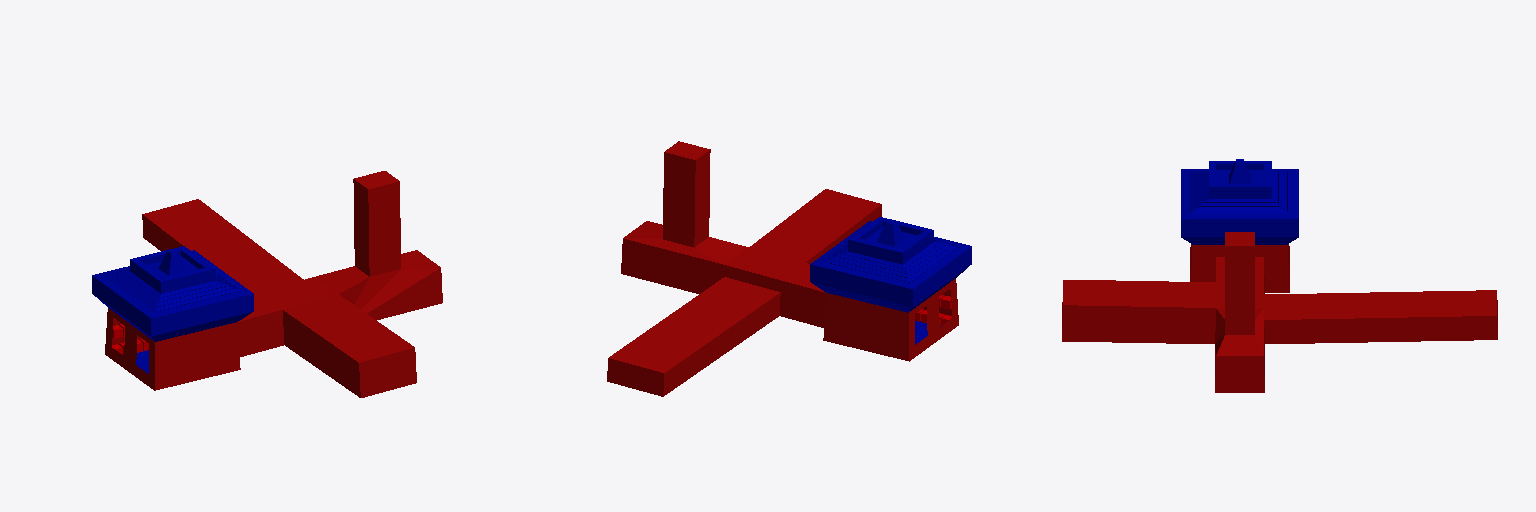
File: Temple1.obj
The picture shows the model from 3 angles: view 1: azimuth 30°, elevation 25°; view 2: azimuth 150°, elevation 25°; view 3: azimuth 270°, elevation 25°; orthographic projection.
Parts seen in each view (by area): view 1: Plane; view 2: Plane; view 3: Plane.
Boxes of the visible parts, box(x1,y1,x2,y2) form: Plane: box(92, 171, 442, 397); Plane: box(607, 141, 971, 396); Plane: box(1062, 159, 1497, 392).
Size of the model in its own units: 3164 by 1298 by 3861.